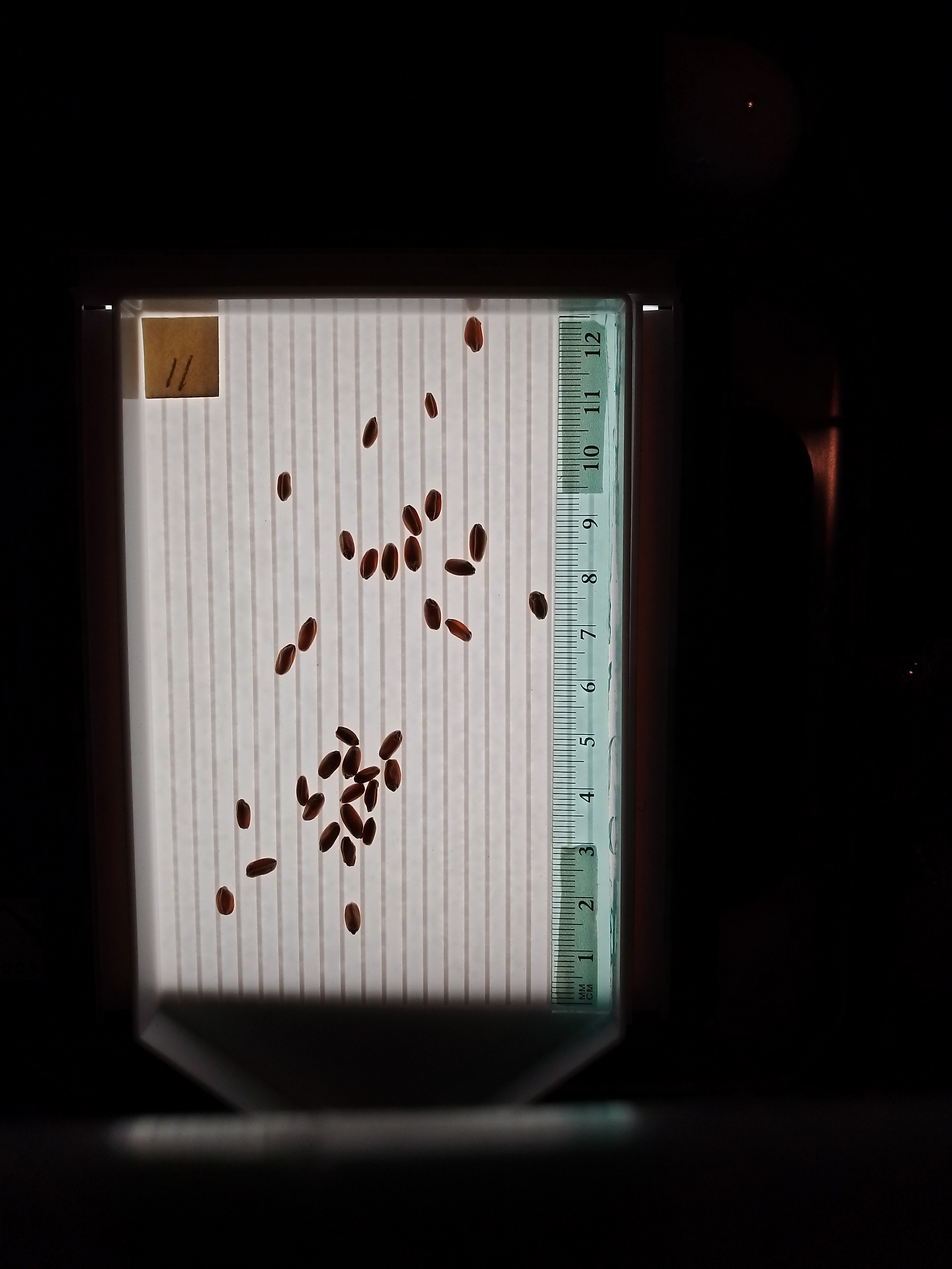seed mask: (342, 805, 363, 838), (469, 525, 487, 561), (298, 618, 317, 652), (275, 644, 296, 674), (319, 822, 340, 852), (404, 537, 422, 571), (382, 544, 399, 580), (465, 318, 483, 352), (303, 793, 324, 821), (246, 858, 275, 878), (446, 618, 471, 641), (360, 549, 379, 579), (380, 731, 401, 758), (384, 759, 401, 792), (342, 747, 361, 776), (319, 752, 341, 777), (529, 592, 548, 620), (216, 887, 235, 915), (424, 599, 441, 630), (425, 490, 442, 521), (403, 506, 421, 535), (446, 558, 474, 576), (362, 418, 379, 447), (345, 903, 360, 934), (276, 472, 292, 501), (235, 800, 251, 829), (341, 837, 356, 866), (340, 531, 355, 559), (342, 784, 364, 803), (365, 781, 378, 812), (336, 727, 357, 745), (363, 818, 377, 845), (357, 766, 379, 783), (297, 776, 309, 805), (424, 394, 438, 417)
